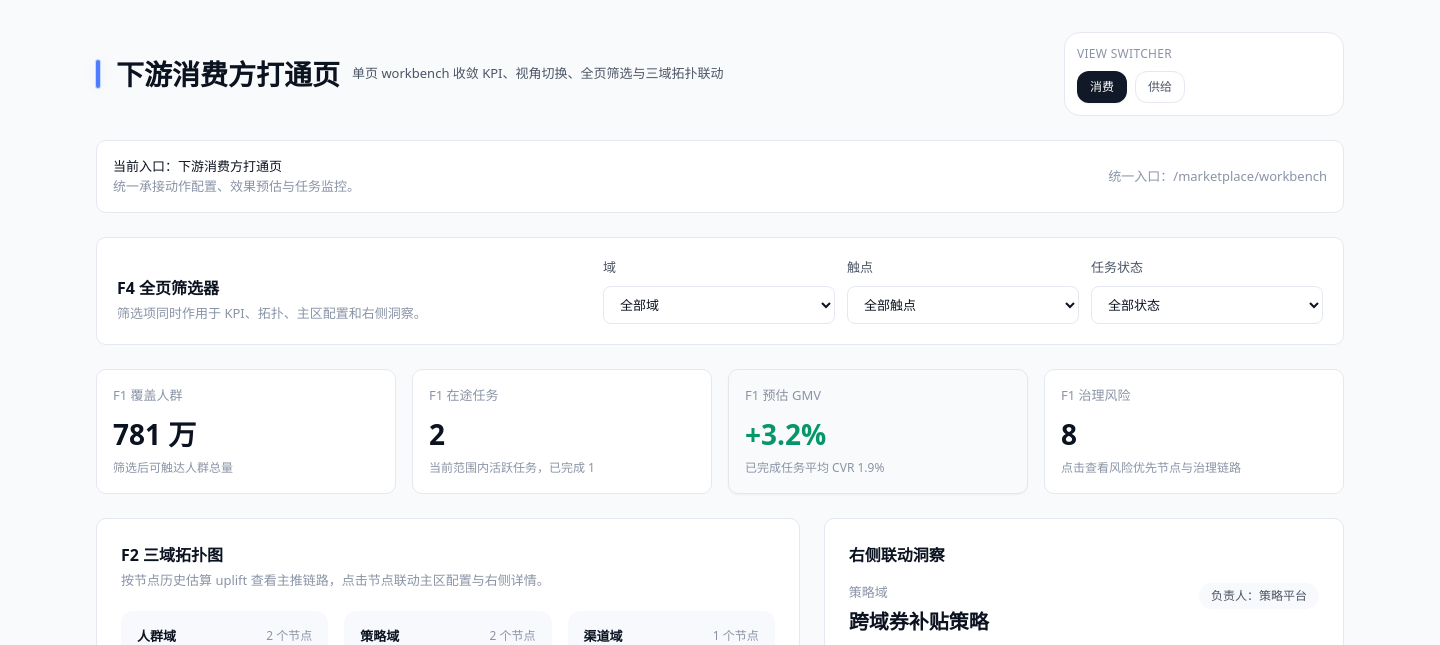
Test case: MarketWorkbench › 点击 KPI 风险卡后联动到风险优先节点
What coordinates should you click on to do the following:
click the button "F1 治理风险 8 点击查看风险优先节点与治理链路"
I would click on:
 (1096, 394)
Its box is [1044,368,1344,494].
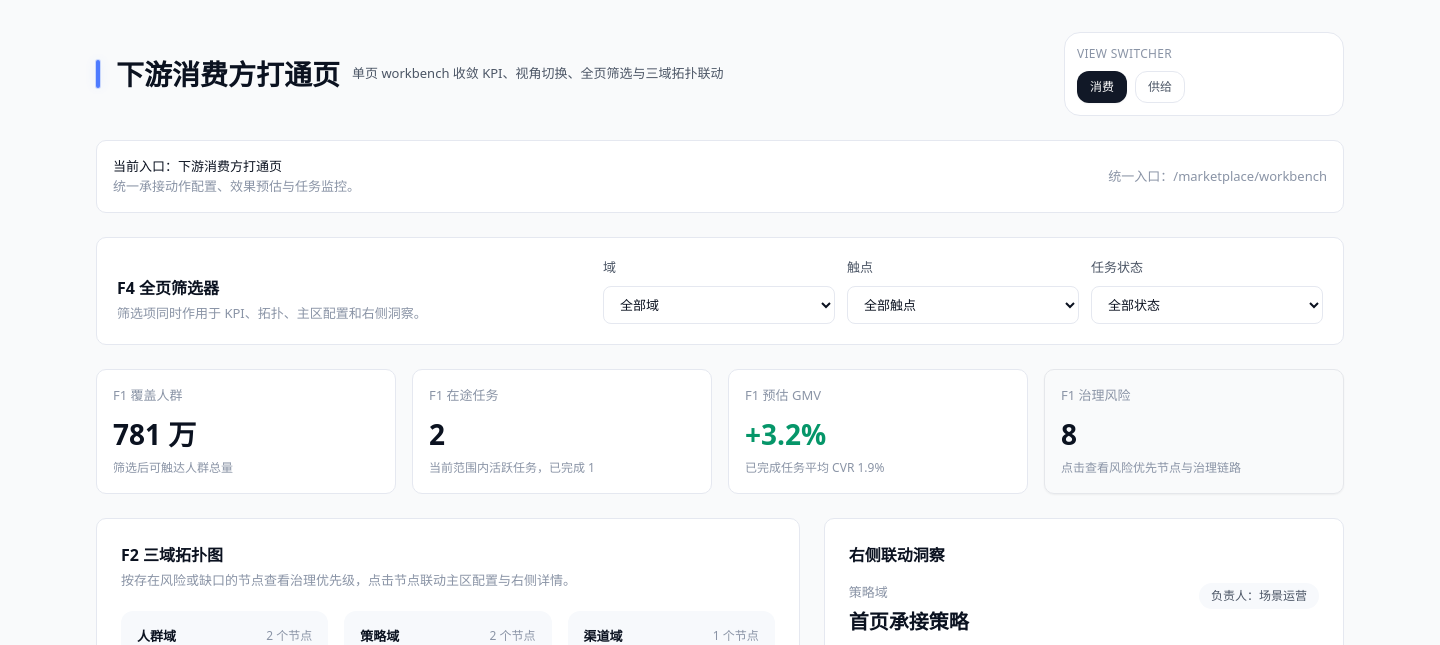
expect the text "右侧联动洞察" is shown: met, box [849,544,945,566]
expect the text "首页承接策略" below "负责人：" is shown: met, box [849,608,969,634]
